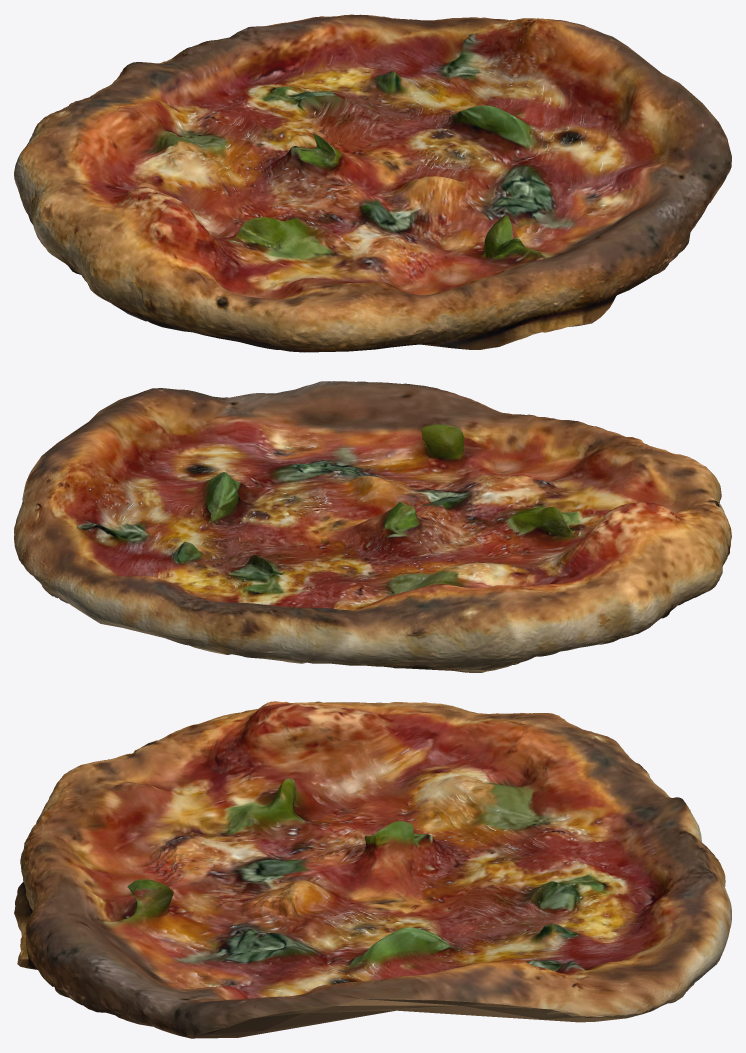
File: Margherita 2.glb
The picture shows the model from 3 angles, top to bottom: view 1: azimuth 30°, elevation 25°; view 2: azimuth 150°, elevation 25°; view 3: azimuth 270°, elevation 25°; orthographic projection. The views are drawn at different scales.
Bounding box in the file's own units: 0.225 × 0.0333 × 0.2108.
Materials: 1 (1 with a texture image).
